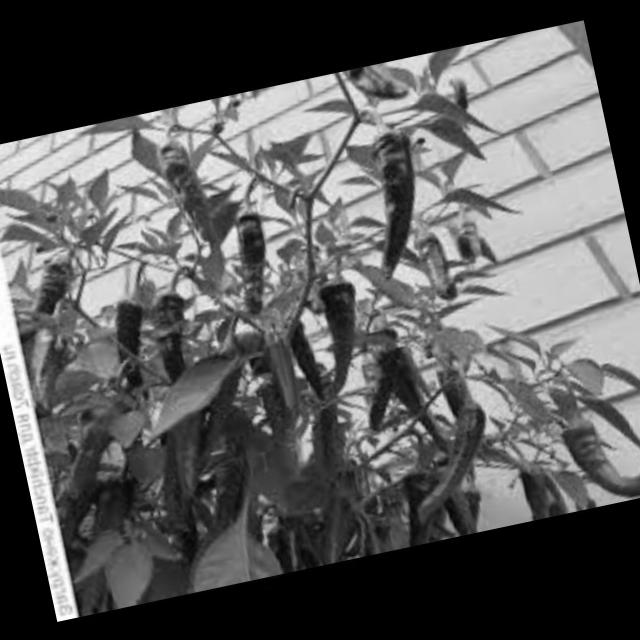ot cay: (383, 374, 527, 538), (344, 113, 453, 284), (46, 464, 166, 616), (536, 364, 640, 512), (293, 264, 392, 412), (172, 340, 274, 479), (133, 397, 228, 532), (149, 118, 226, 276), (372, 346, 464, 474), (39, 400, 140, 516), (2, 238, 100, 356), (212, 200, 290, 314), (250, 321, 326, 438), (133, 277, 205, 395), (185, 446, 268, 546), (92, 294, 162, 404), (297, 386, 362, 482), (334, 55, 418, 113)
